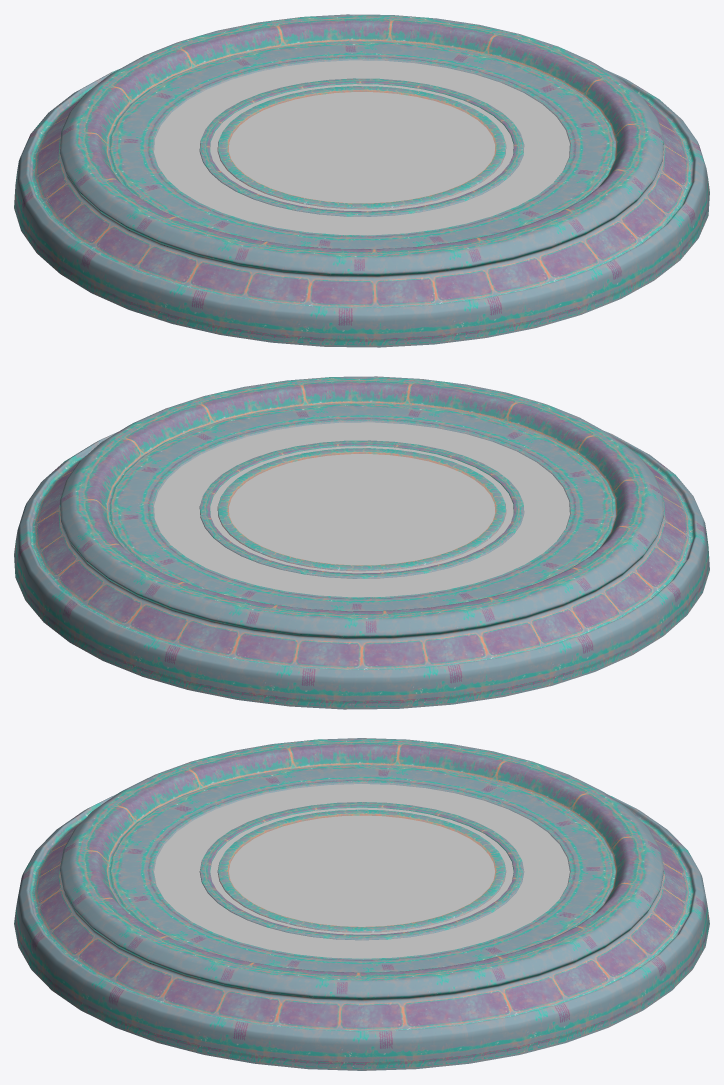
Rendered from platform_large.fbx.
The picture shows the model from 3 angles, top to bottom: view 1: azimuth 30°, elevation 25°; view 2: azimuth 150°, elevation 25°; view 3: azimuth 270°, elevation 25°; orthographic projection.
Parts seen in each view (by area): view 1: Platform_large1; view 2: Platform_large1; view 3: Platform_large1.
Boxes of the visible parts, x1,y1,x2,y2 form: Platform_large1: (14, 14, 709, 347); Platform_large1: (14, 376, 709, 709); Platform_large1: (14, 738, 709, 1070).
Size of the model in its own units: 3295 by 335 by 3295.
